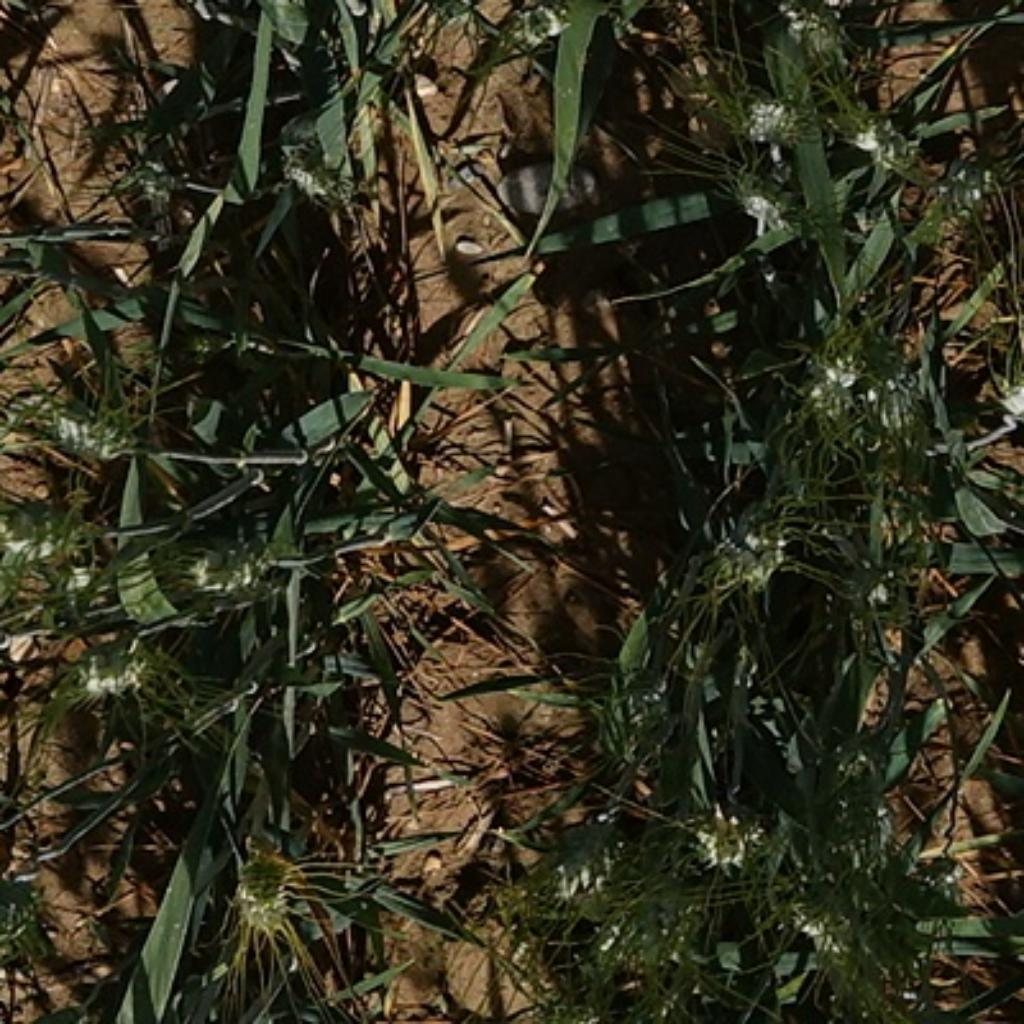0-0: (581, 839, 719, 985), (782, 825, 923, 962), (798, 717, 910, 881), (576, 645, 709, 770), (793, 324, 907, 453), (98, 117, 221, 223), (911, 135, 1006, 262), (524, 803, 640, 903), (58, 619, 174, 701), (2, 501, 117, 581), (718, 0, 859, 61), (826, 87, 924, 174), (678, 780, 775, 867), (225, 826, 304, 931), (705, 505, 790, 598), (714, 163, 811, 243), (181, 527, 280, 605), (832, 89, 924, 171), (836, 547, 921, 635), (49, 394, 138, 473), (732, 71, 819, 143), (734, 74, 821, 140), (491, 3, 576, 67), (275, 129, 345, 203), (0, 880, 44, 992)
